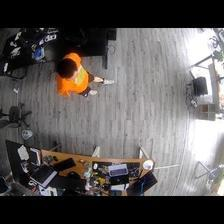normal: (54, 53, 114, 98)
